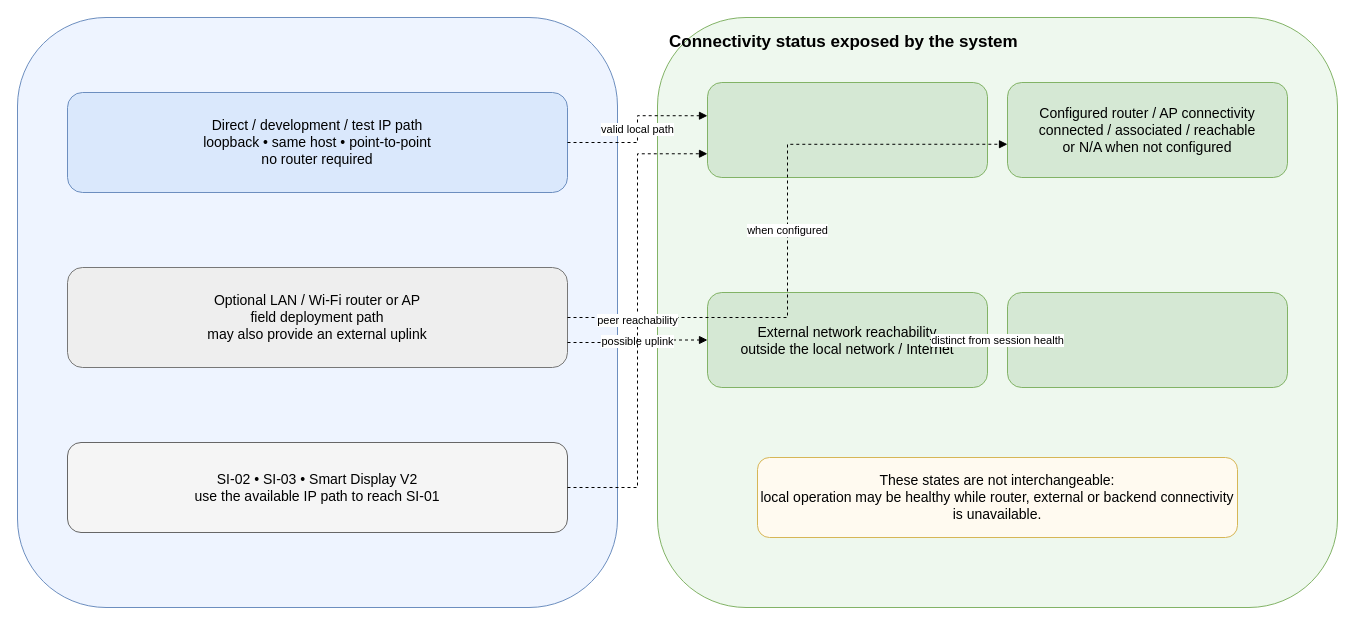
Some shapes in this 1355 by 625 pixel diagram are drawn without their labels. Here are the shapes that lost their labels. From the top down, the box of each, then its label:
(706, 82, 988, 178): Local IP connectivity SI-01 interface/link and local peer reachability
(16, 16, 618, 608): Possible local network paths
(1006, 292, 1288, 388): Backend connectivity endpoint / transport / session health
